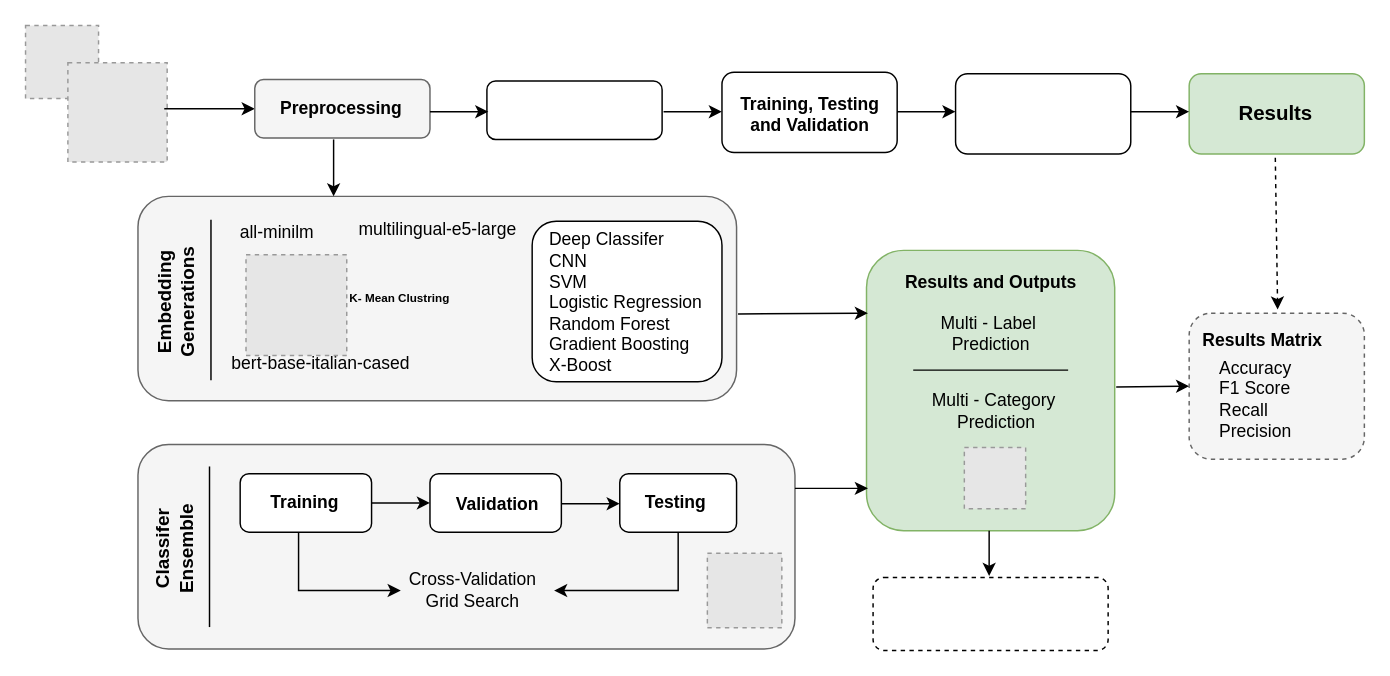
Image size: 1390x676. Some labels were removed from this diagram. Grey dashed boxes stand in for pictures. The centre of each missing label's shape, as x and y in pixels:
"(Future) : Symbolic Reasoning Layer" goes at (x=990, y=613).
"Classifier Assemble" goes at (x=1042, y=113).
"Feature Extraction" goes at (x=573, y=109).
